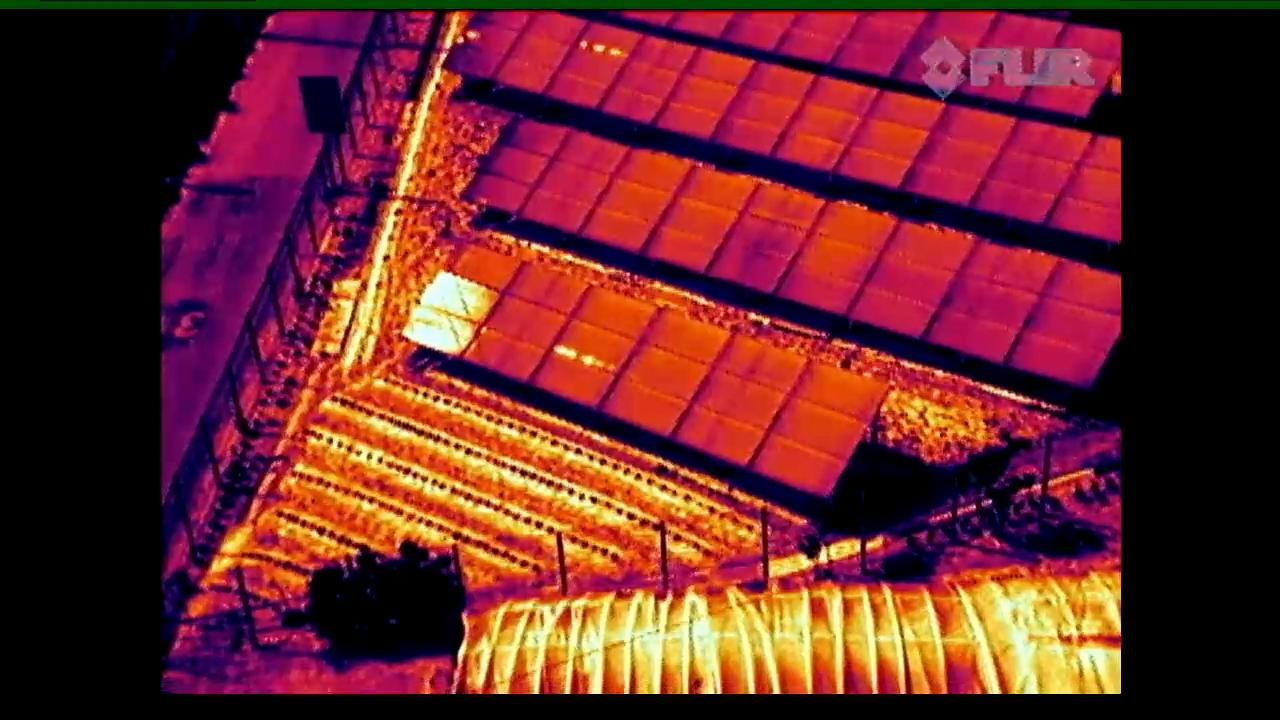hotspot: (531, 282, 657, 409), (540, 23, 639, 113)
